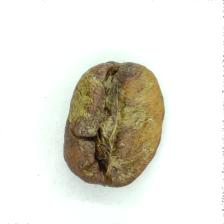NG: (72, 67, 146, 182)
